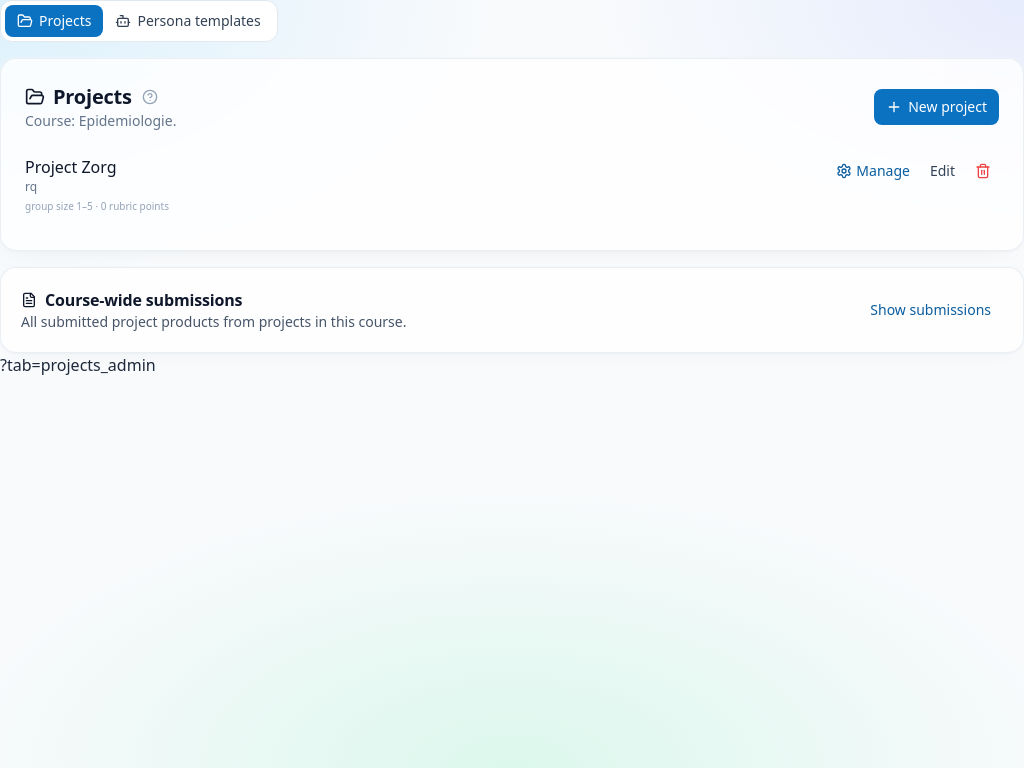
Test case: Persona's in een project › zonder sjablonen: uitleg en een knop naar Persona-sjablonen
Click the button with test id "button-detail-project-p1".
click(873, 171)  # box [828,155,918,187]
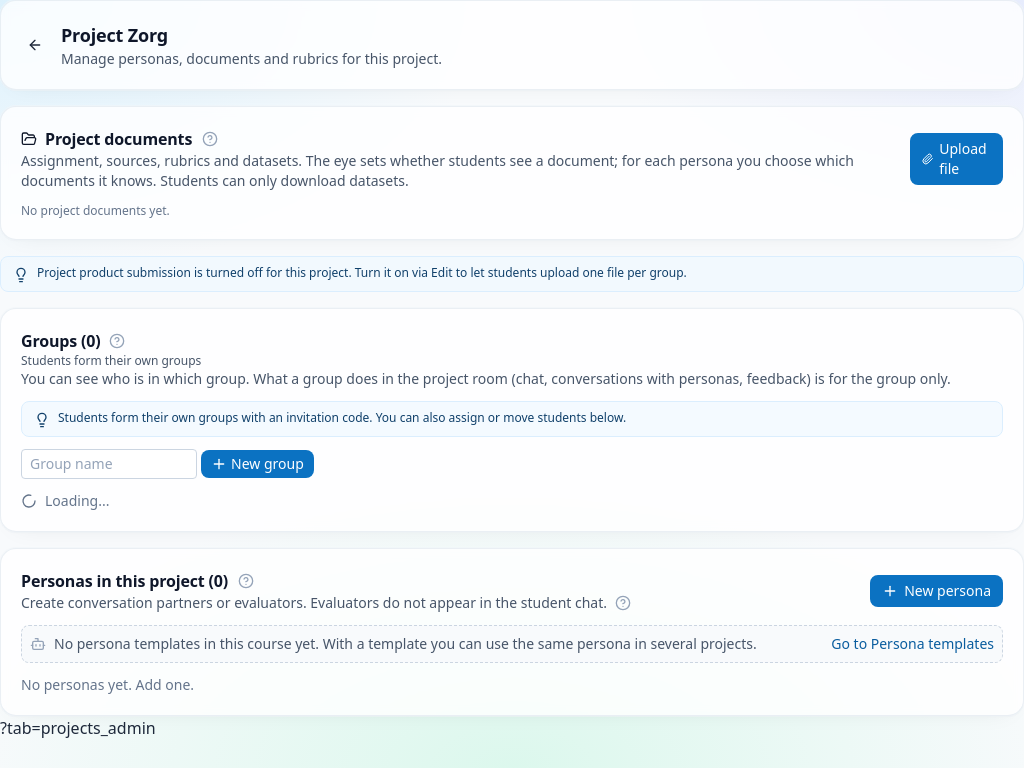
Click the button with test id "button-open-templates".
click(913, 644)  # box [831,634,994,654]
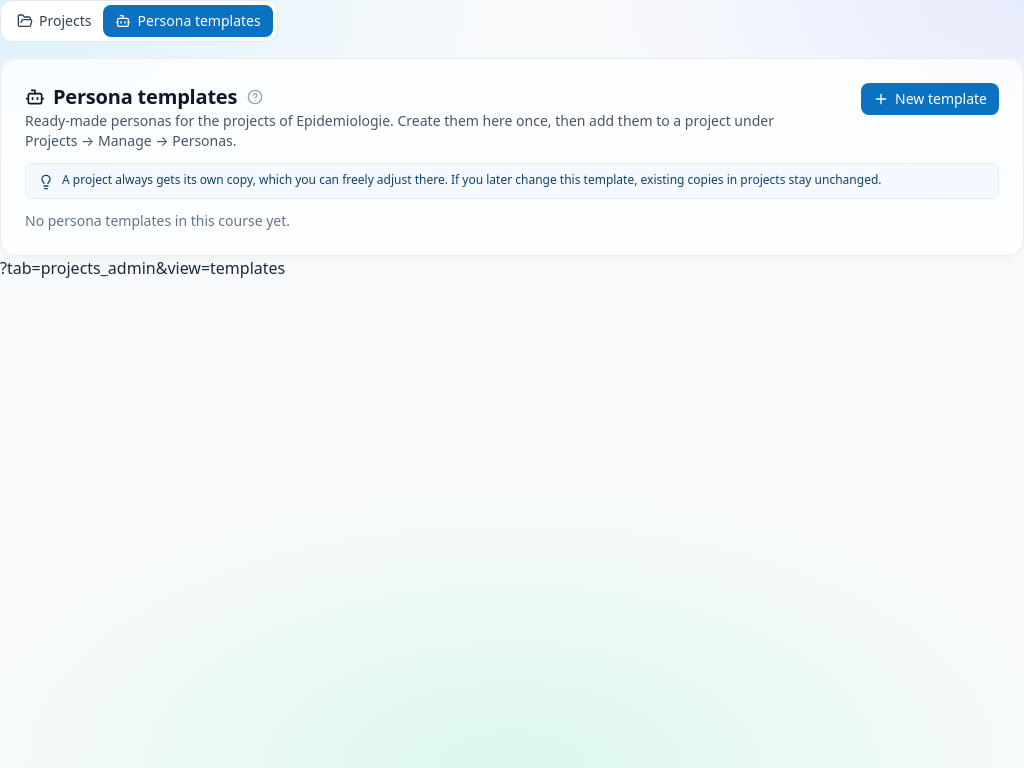
Result: the text with test id "location" shows "view=templates" at [0,257,285,279]
